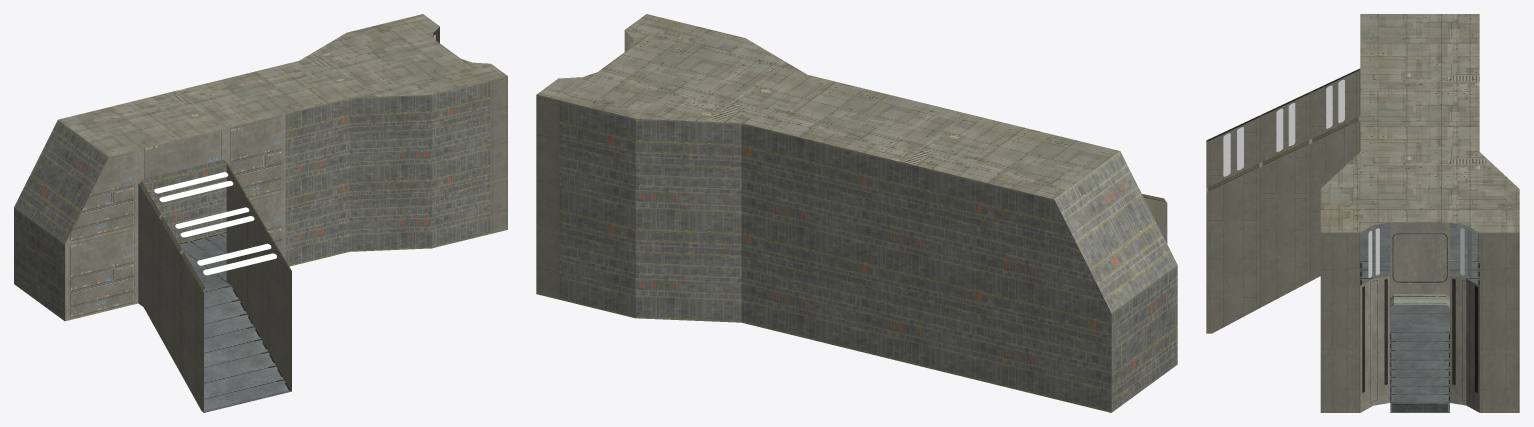
The model's file is thm_tato_fallen_star_r3_hall01_mesh_r3.fbx.
3 views of the same model, side by side, from view 1: azimuth 30°, elevation 25°; view 2: azimuth 150°, elevation 25°; view 3: azimuth 270°, elevation 25° (orthographic). The views are drawn at different scales.
Visible parts, largest first — view 1: mesh_node; view 2: mesh_node; view 3: mesh_node.
Part boxes in pixels (x1=…): mesh_node: x1=14, y1=14, x2=507, y2=412; mesh_node: x1=536, y1=14, x2=1177, y2=412; mesh_node: x1=1206, y1=14, x2=1519, y2=412.
Size of the model in its own units: 14.5 by 7 by 7.87.
